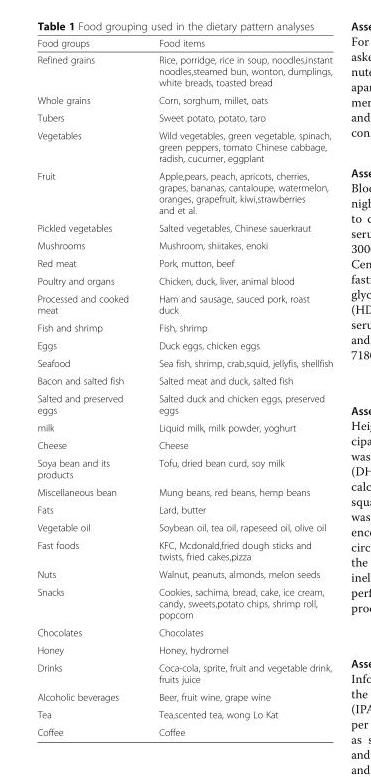table: (36, 37, 332, 737)
table column: (143, 37, 332, 737), (36, 37, 143, 737)
table column header: (36, 37, 332, 51)
table row: (36, 166, 332, 218), (36, 582, 332, 623), (36, 51, 332, 91), (36, 126, 332, 166), (36, 535, 332, 565), (36, 289, 332, 318), (36, 389, 332, 418), (36, 453, 332, 482), (36, 658, 332, 687), (36, 108, 332, 126), (36, 218, 332, 236), (36, 236, 332, 254), (36, 271, 332, 289), (36, 318, 332, 336), (36, 353, 332, 371), (36, 371, 332, 389), (36, 418, 332, 436), (36, 482, 332, 500), (36, 500, 332, 518), (36, 640, 332, 658), (36, 687, 332, 705), (36, 705, 332, 723), (36, 91, 332, 108), (36, 254, 332, 271), (36, 336, 332, 353), (36, 436, 332, 453), (36, 518, 332, 535), (36, 565, 332, 582), (36, 623, 332, 640), (36, 37, 332, 51), (36, 723, 332, 737)
